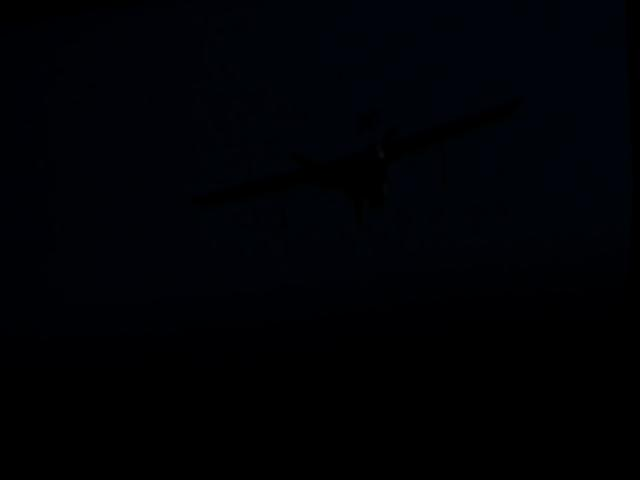iha: (166, 98, 538, 258)
